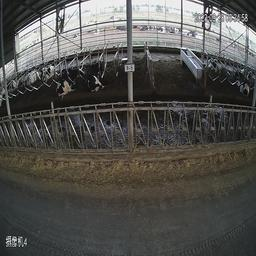cow: (55, 63, 82, 96), (85, 60, 106, 94), (233, 67, 250, 98), (40, 64, 56, 83), (208, 57, 219, 72)
